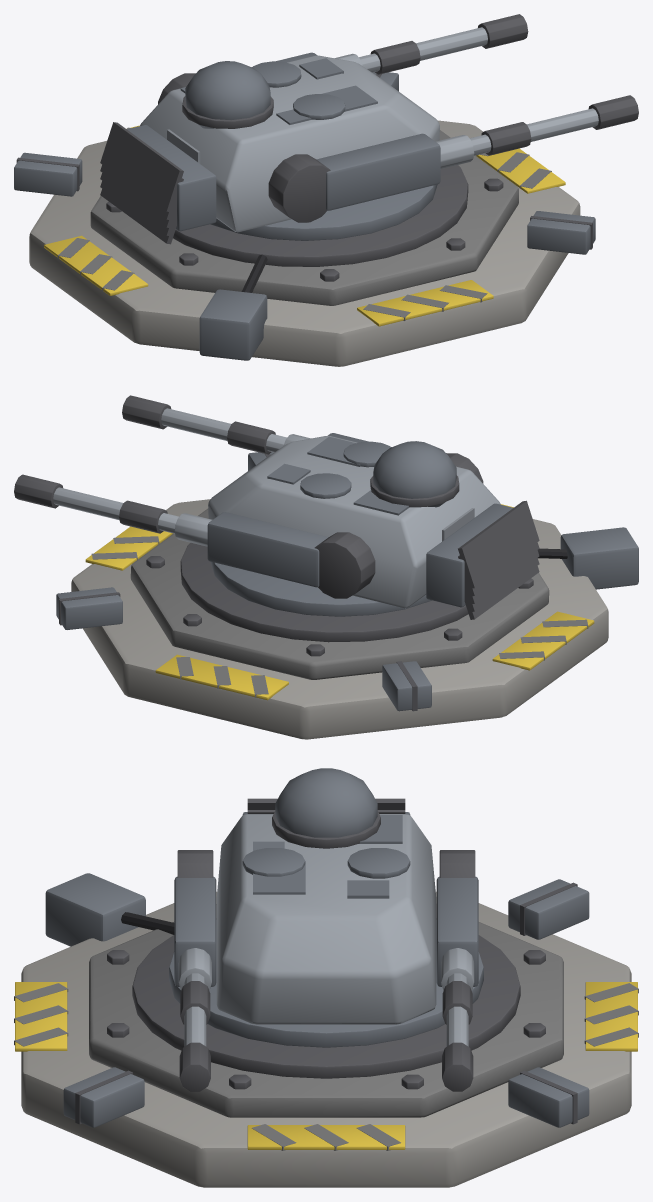
File: tower_double.glb
3 views of the same model, one above another, from view 1: azimuth 30°, elevation 25°; view 2: azimuth 150°, elevation 25°; view 3: azimuth 270°, elevation 25° (orthographic). The views are drawn at different scales.
Parts seen in each view (by area): view 1: base, turret, barrel; view 2: base, turret, barrel; view 3: base, turret, barrel.
Part boxes in pixels (x1,y1,x2,y2): base: (14, 72, 595, 366); turret: (100, 52, 440, 244); barrel: (335, 14, 638, 168); base: (56, 452, 638, 739); turret: (207, 433, 539, 619); barrel: (14, 395, 310, 546); base: (14, 873, 638, 1187); turret: (169, 768, 483, 1047); barrel: (178, 948, 474, 1091).
Bounding box in the file's own units: 6.53 × 2.56 × 5.96.
